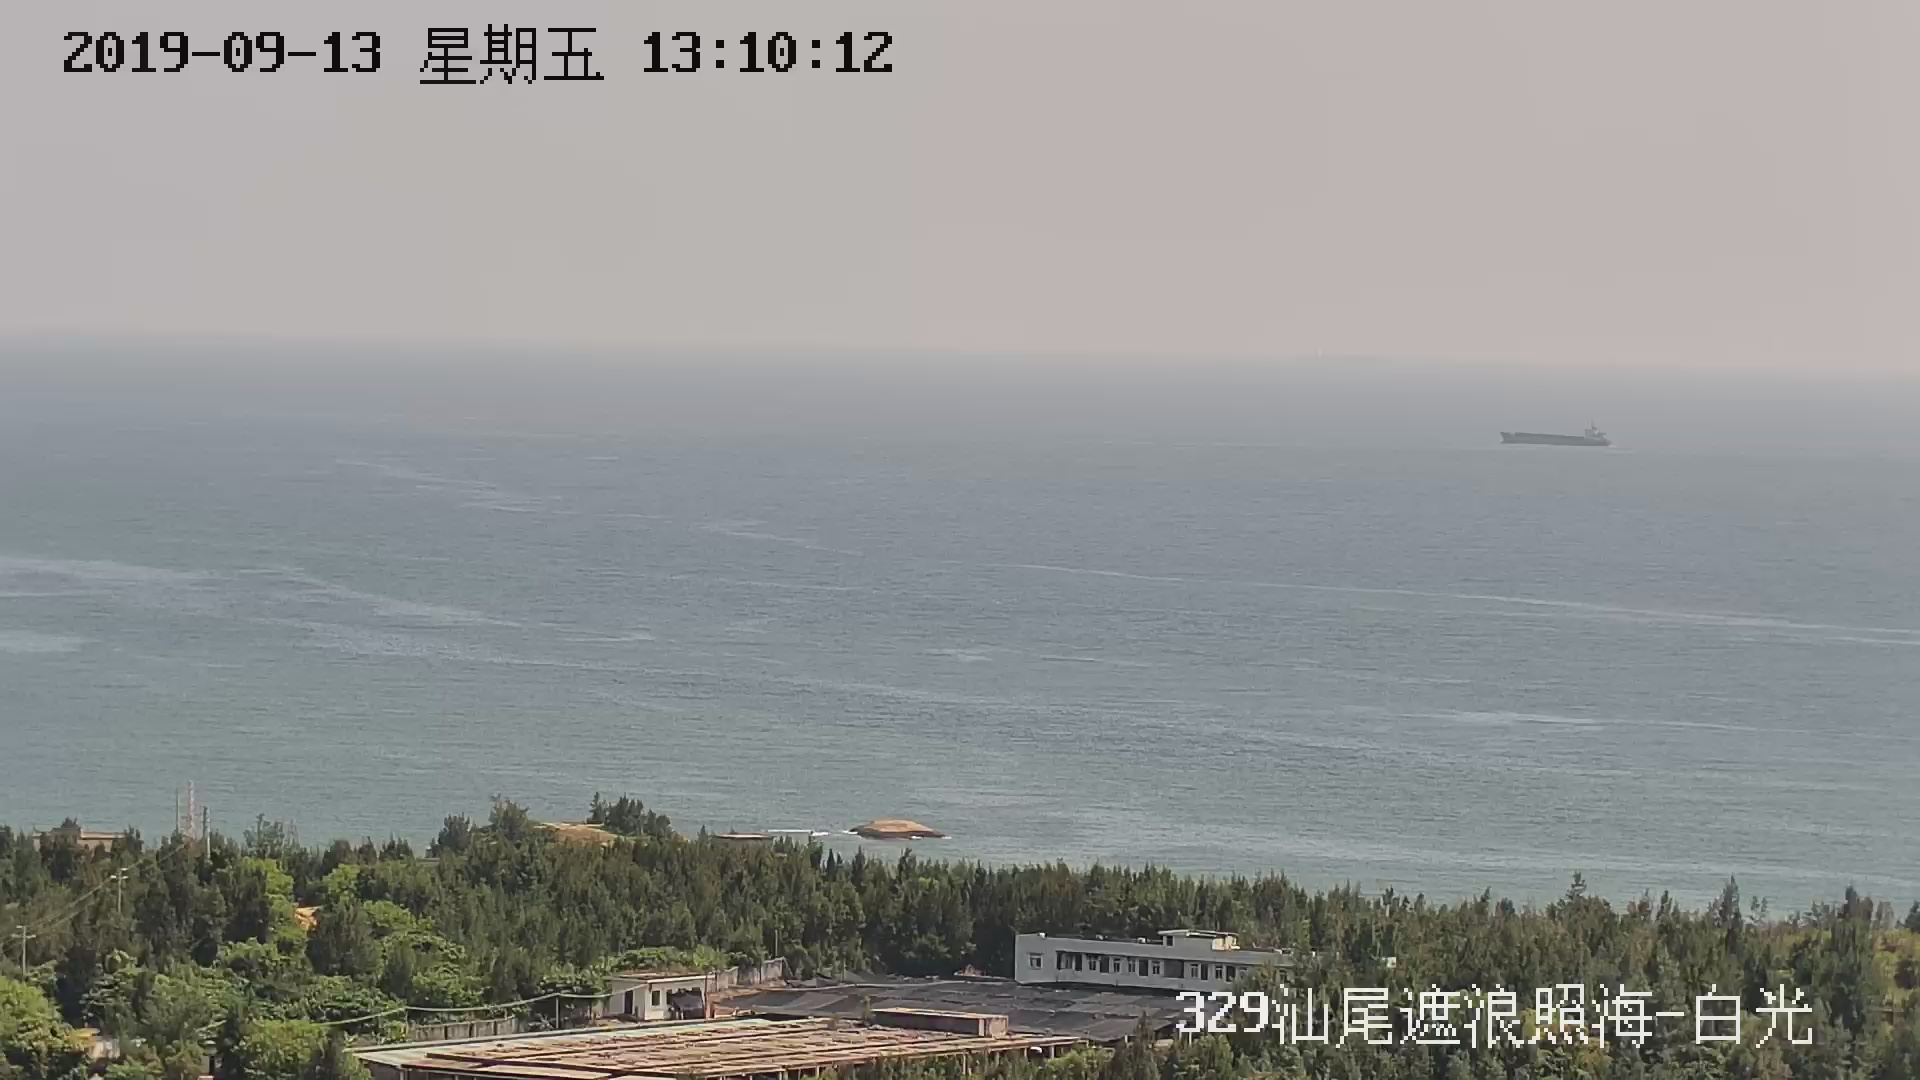ship: (1501, 422, 1610, 448)
